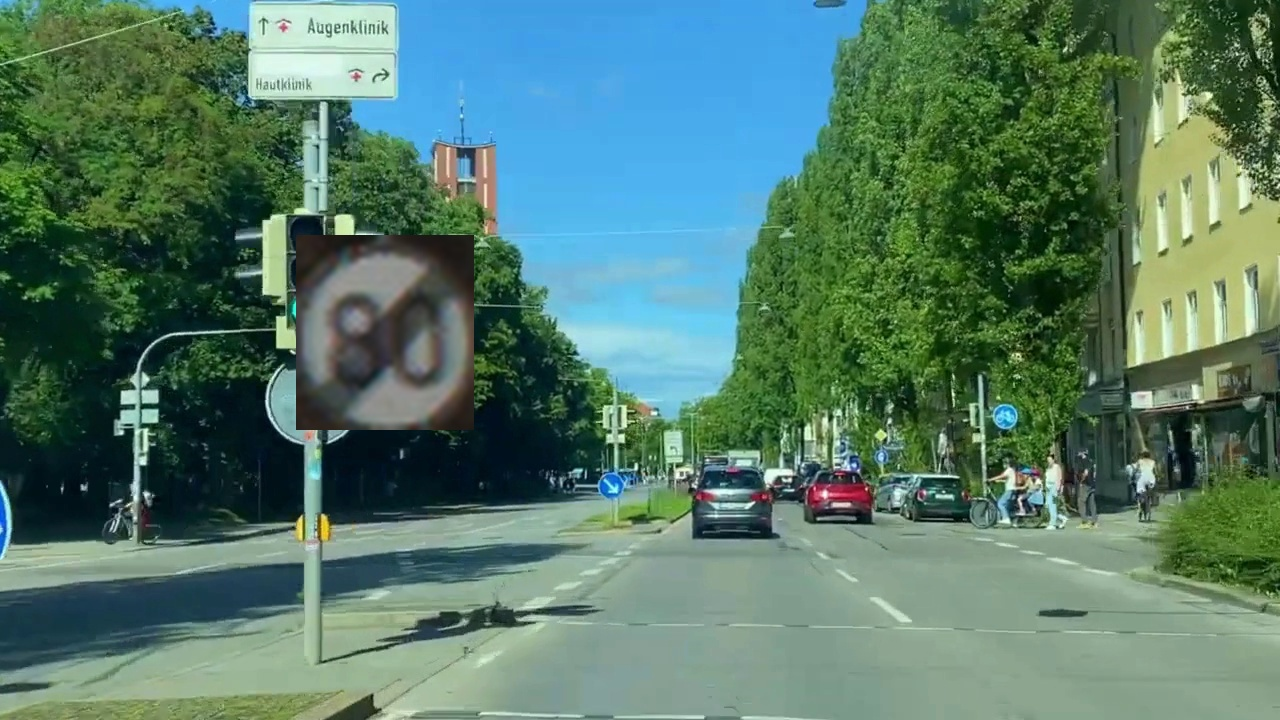End Speed 80: (296, 235, 474, 430)
